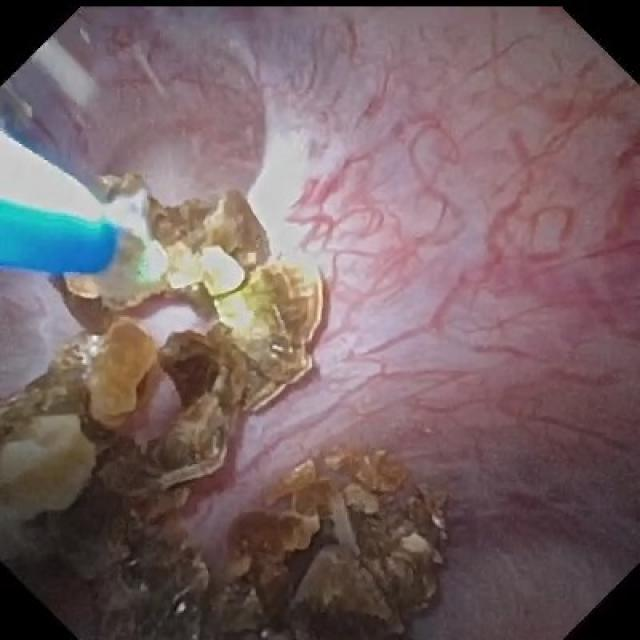laser-fibre: (108, 223, 163, 280)
laser_dot: (205, 258, 270, 331)
stone-new: (0, 192, 322, 574), (160, 451, 445, 638)
